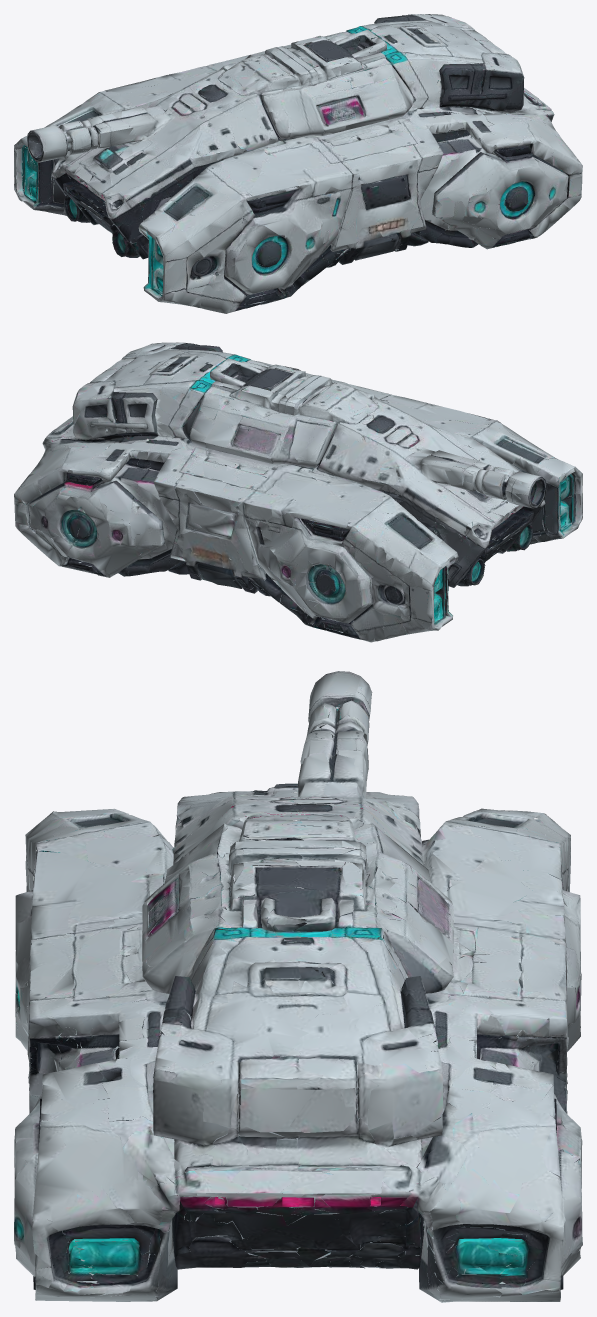
Rendered from vector.glb.
3 renders of one model, top to bottom at view 1: azimuth 30°, elevation 25°; view 2: azimuth 150°, elevation 25°; view 3: azimuth 270°, elevation 25°, orthographic. The views are drawn at different scales.
Visible parts, largest first — view 1: Mesh_0; view 2: Mesh_0; view 3: Mesh_0.
Part boxes in pixels (left/top/right/bottom): Mesh_0: left=14, top=14, right=582, bottom=313; Mesh_0: left=14, top=342, right=582, bottom=642; Mesh_0: left=14, top=671, right=582, bottom=1302.
Size of the model in its own units: 1.9 by 0.6585 by 1.1.
1 material, 1 textured.
